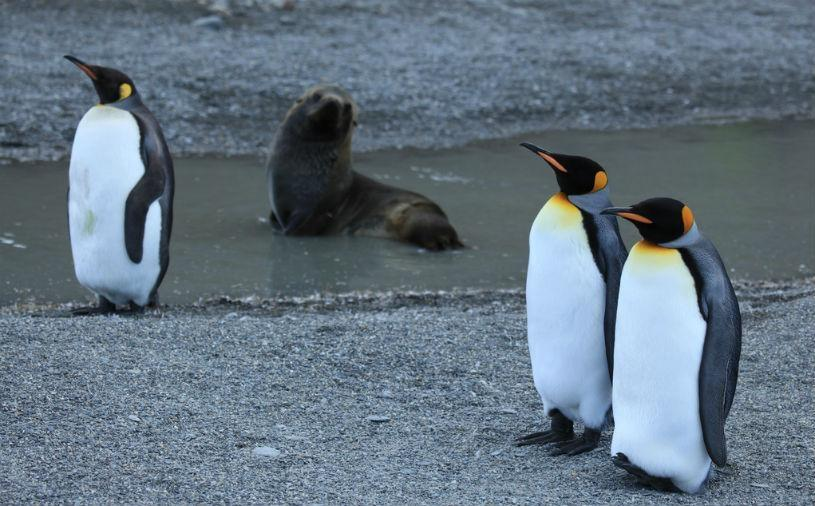Penguin: (602, 197, 742, 492), (516, 142, 627, 455), (66, 56, 173, 314), (266, 83, 357, 237), (332, 170, 466, 252)
